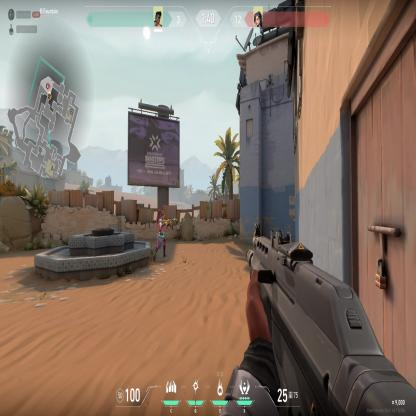enemy: (152, 208, 172, 265)
